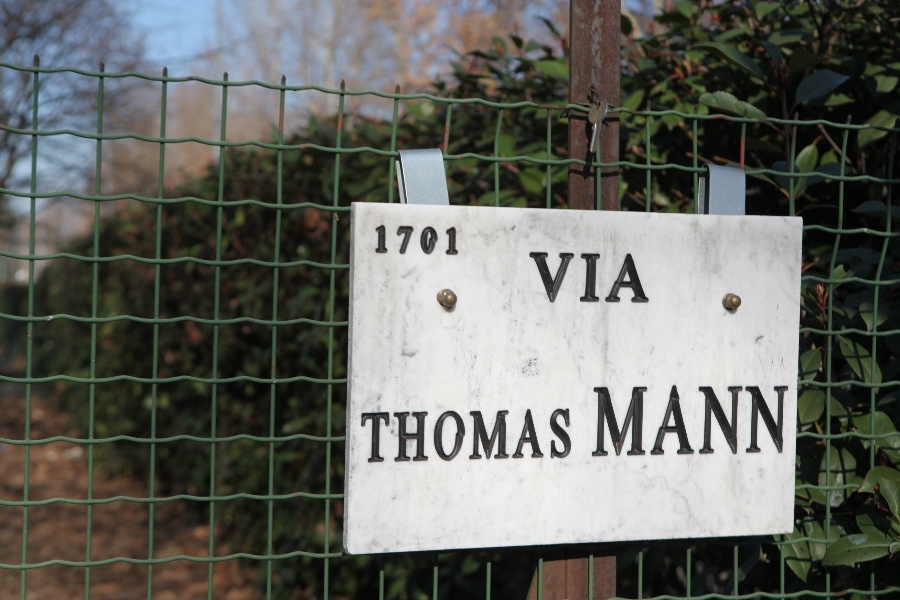text: (593, 385, 608, 458), (609, 385, 624, 458), (625, 385, 640, 458), (641, 385, 656, 458), (657, 385, 672, 458), (673, 385, 688, 458), (689, 385, 704, 458), (705, 385, 720, 458), (721, 385, 736, 458), (737, 385, 752, 458), (753, 385, 768, 458), (769, 385, 784, 458), (369, 405, 384, 466), (385, 405, 400, 466), (401, 405, 416, 466), (417, 405, 432, 466), (433, 405, 448, 466), (449, 405, 464, 466), (465, 405, 480, 466), (481, 405, 496, 466), (497, 405, 512, 466), (513, 405, 528, 466), (529, 405, 544, 466), (545, 405, 560, 466), (529, 251, 544, 307), (545, 251, 560, 307), (561, 251, 576, 307), (577, 251, 592, 307), (593, 251, 608, 307), (609, 251, 624, 307), (625, 251, 640, 307), (561, 405, 573, 466), (641, 251, 652, 307), (359, 405, 368, 466), (385, 224, 400, 257), (401, 224, 416, 257), (417, 224, 432, 257), (433, 224, 448, 257), (372, 224, 384, 257), (785, 385, 790, 458), (449, 224, 459, 257), (525, 251, 528, 307)
